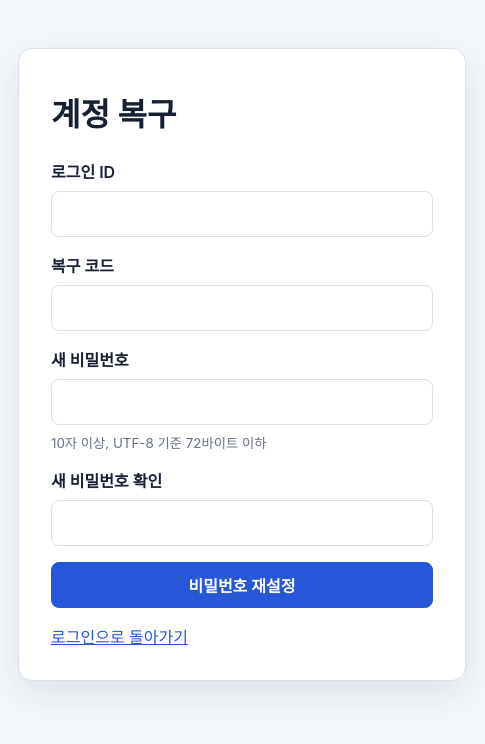
Scenario: does not recover an account when the confirmation differs
Type "operator-01" into the field labelled "로그인 ID" at {"x": 242, "y": 214}, box [51,190,433,236]
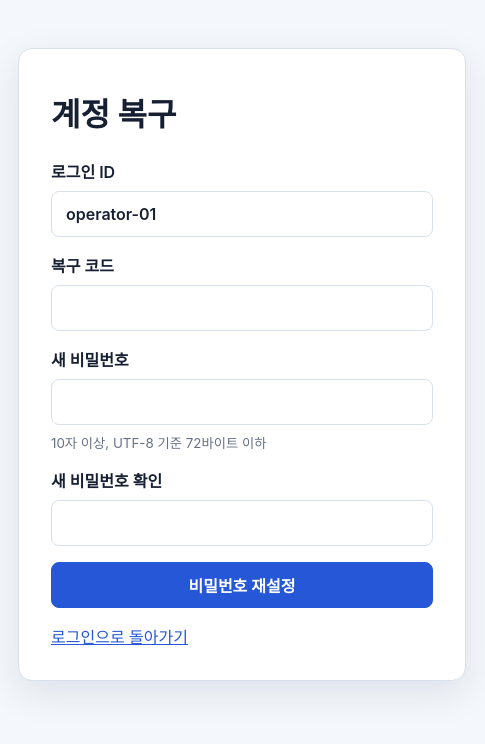
Type "recovery-code-123" into the field labelled "복구 코드" at {"x": 242, "y": 308}, box [51,284,433,330]
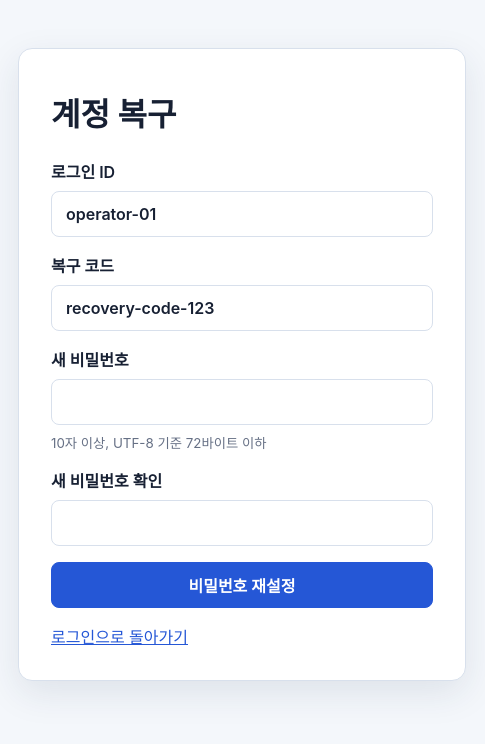
Type "new-password-123" into the password field labelled "새 비밀번호 10자 이상, UTF-8 기준 72바이트 이하" at {"x": 242, "y": 402}, box [51,378,433,424]
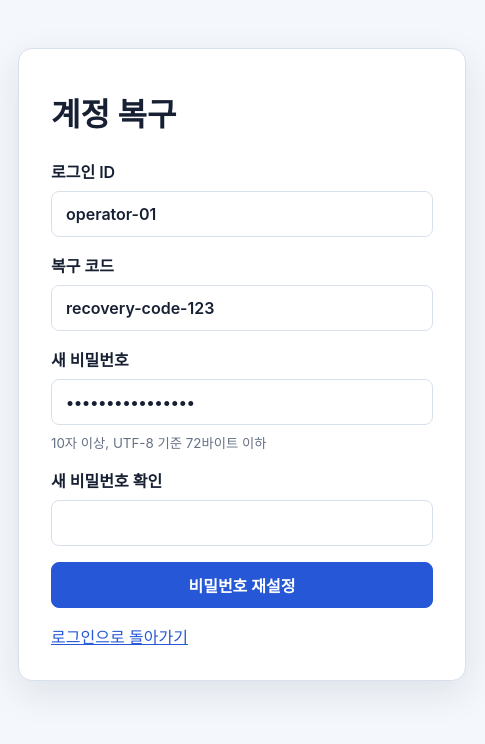
Type "different-password-123" into the password field labelled "새 비밀번호 확인" at {"x": 242, "y": 522}, box [51,500,433,546]
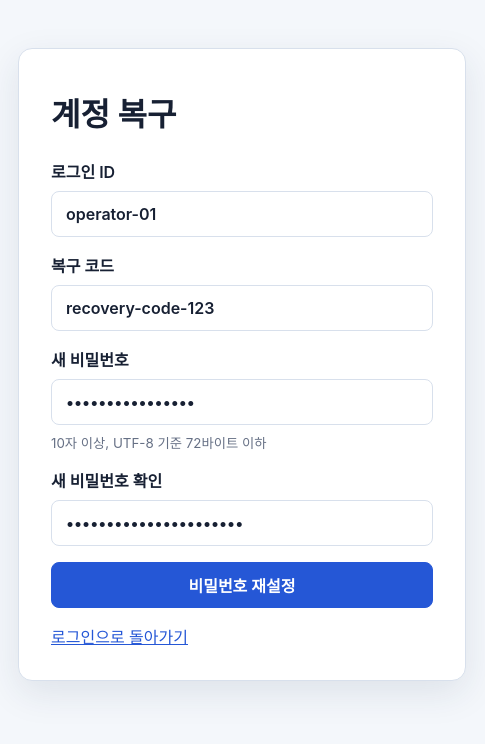
Click the button "비밀번호 재설정" at {"x": 242, "y": 584}, box [51,562,433,608]
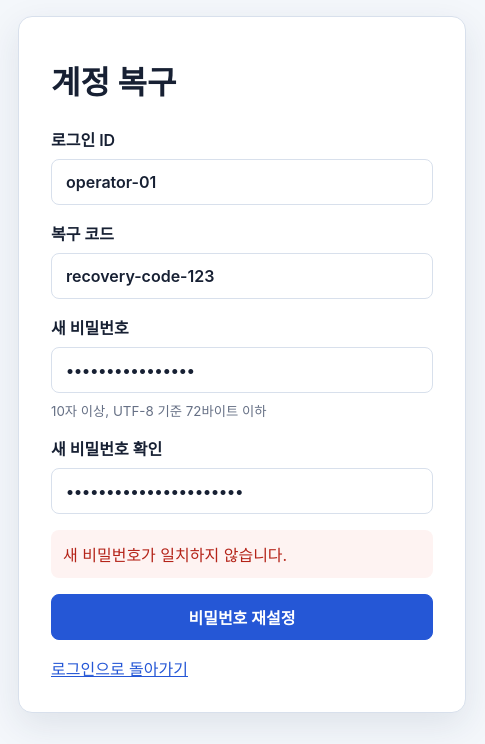
Check: the text "새 비밀번호가 일치하지 않습니다." is shown, box [51,530,433,578]
